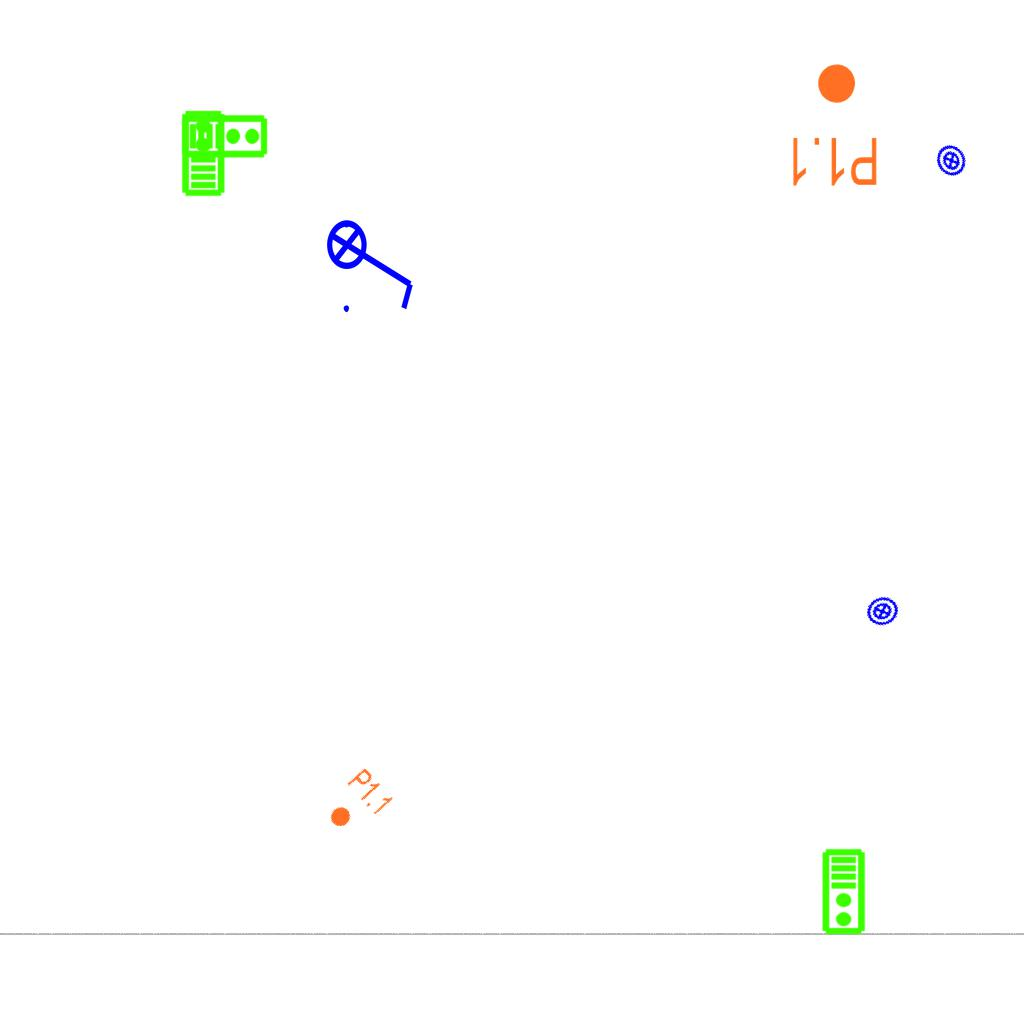Ausschalter_beleuchtet: (325, 206, 421, 318)
Downlight_LED_Einbauleuchten_Flur: (787, 61, 880, 189), (317, 765, 397, 843)
Gegensprechanlage_mit_Video: (179, 109, 226, 197), (821, 848, 868, 936), (181, 112, 269, 159)
Taster_beleuchtet: (929, 138, 974, 183), (861, 590, 904, 633)
